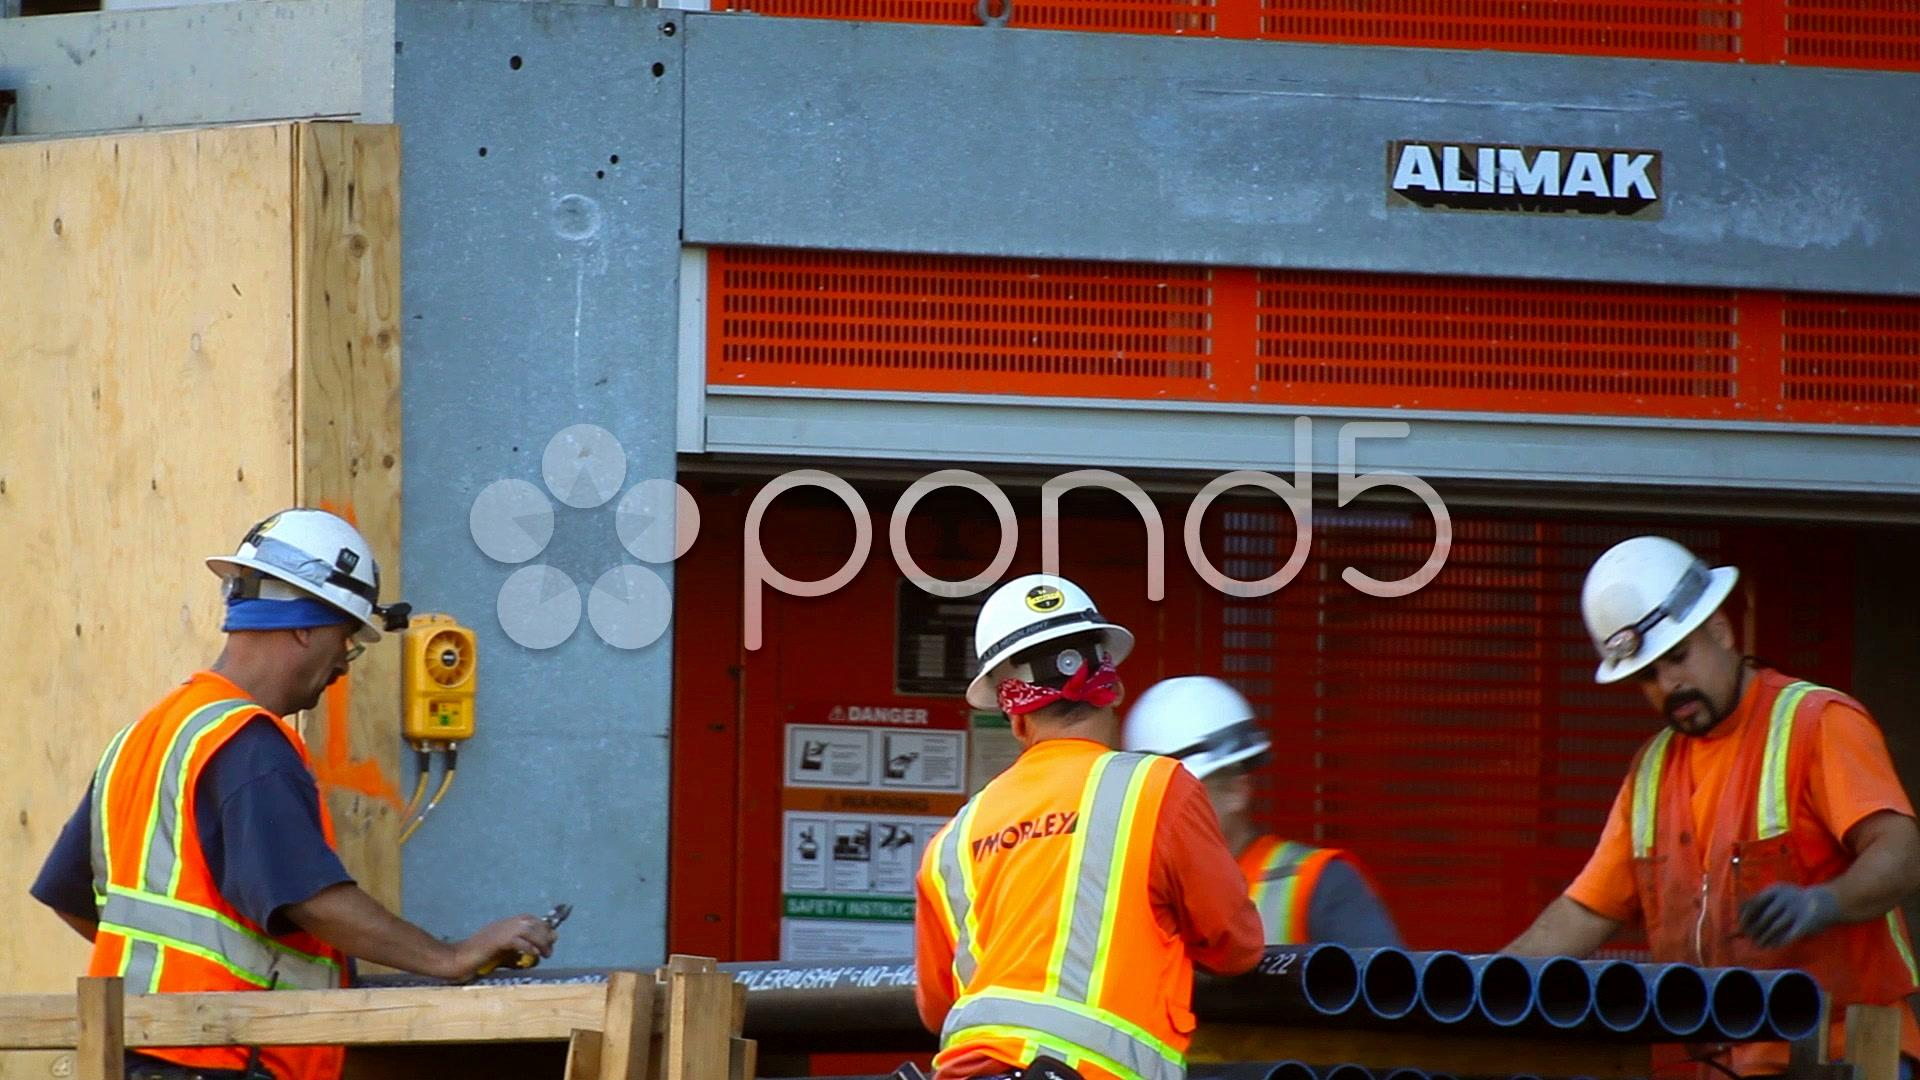hat: (1534, 481, 1782, 761), (198, 421, 418, 731), (905, 495, 1145, 744), (1134, 618, 1298, 837)
vest: (1588, 661, 1920, 1080), (69, 601, 324, 1064), (909, 688, 1178, 1080), (1201, 804, 1378, 1054)
